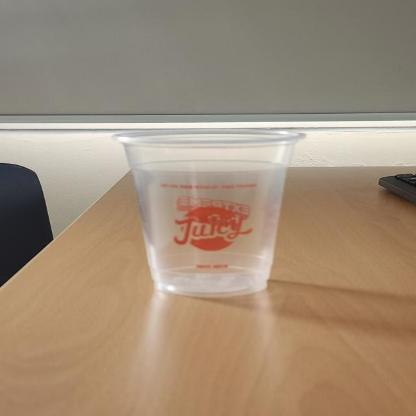Plastic Cup: (110, 127, 306, 297)
